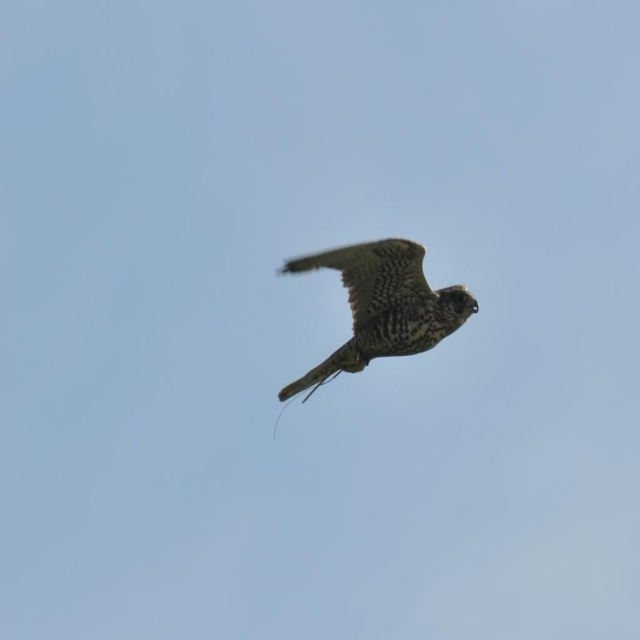Eagle: (276, 233, 487, 452)
